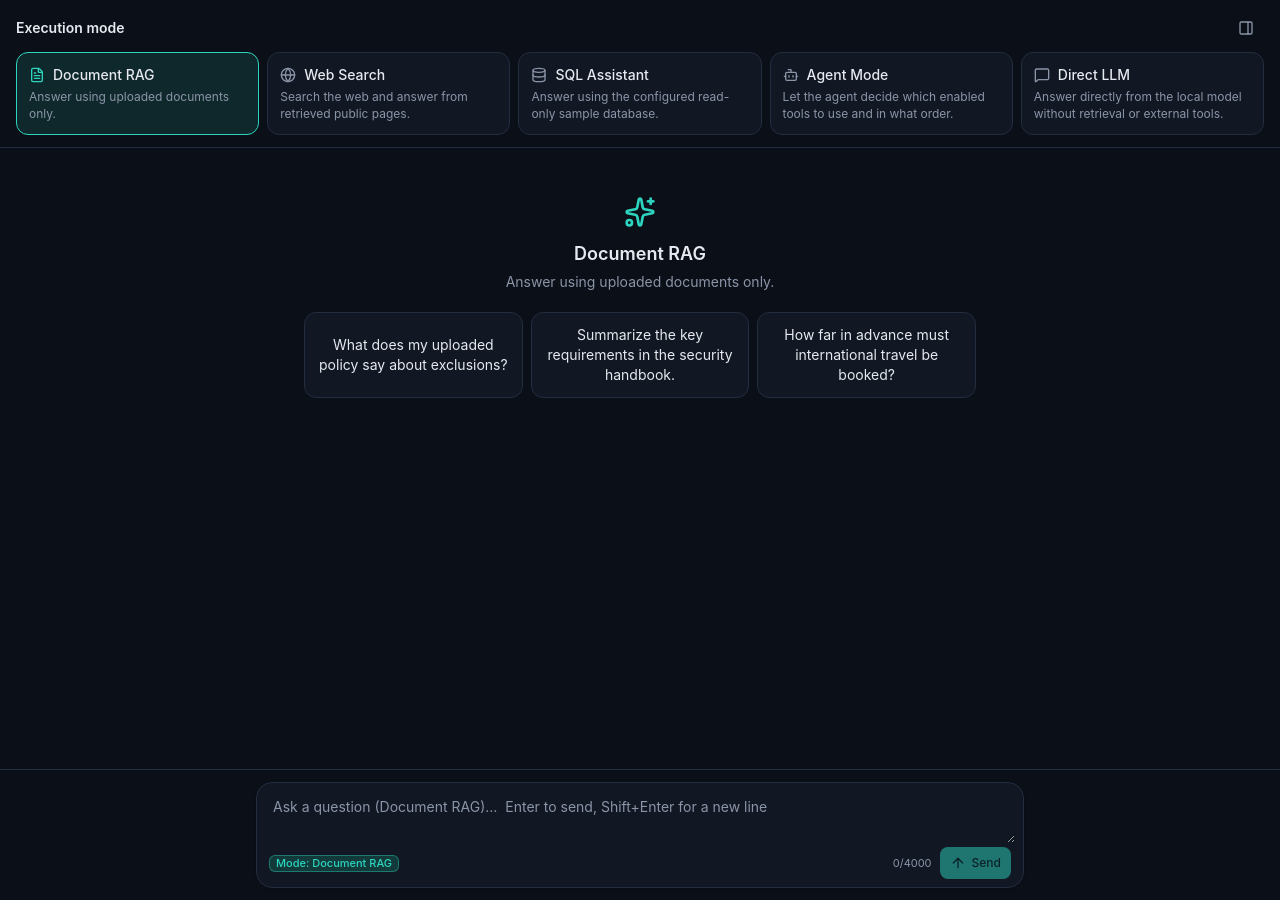
it: tool toggles appear only in Agent Mode and update availability
Click the radio button labelled "Agent Mode" at [891, 94], box x1=770 y1=52 x2=1013 y2=135
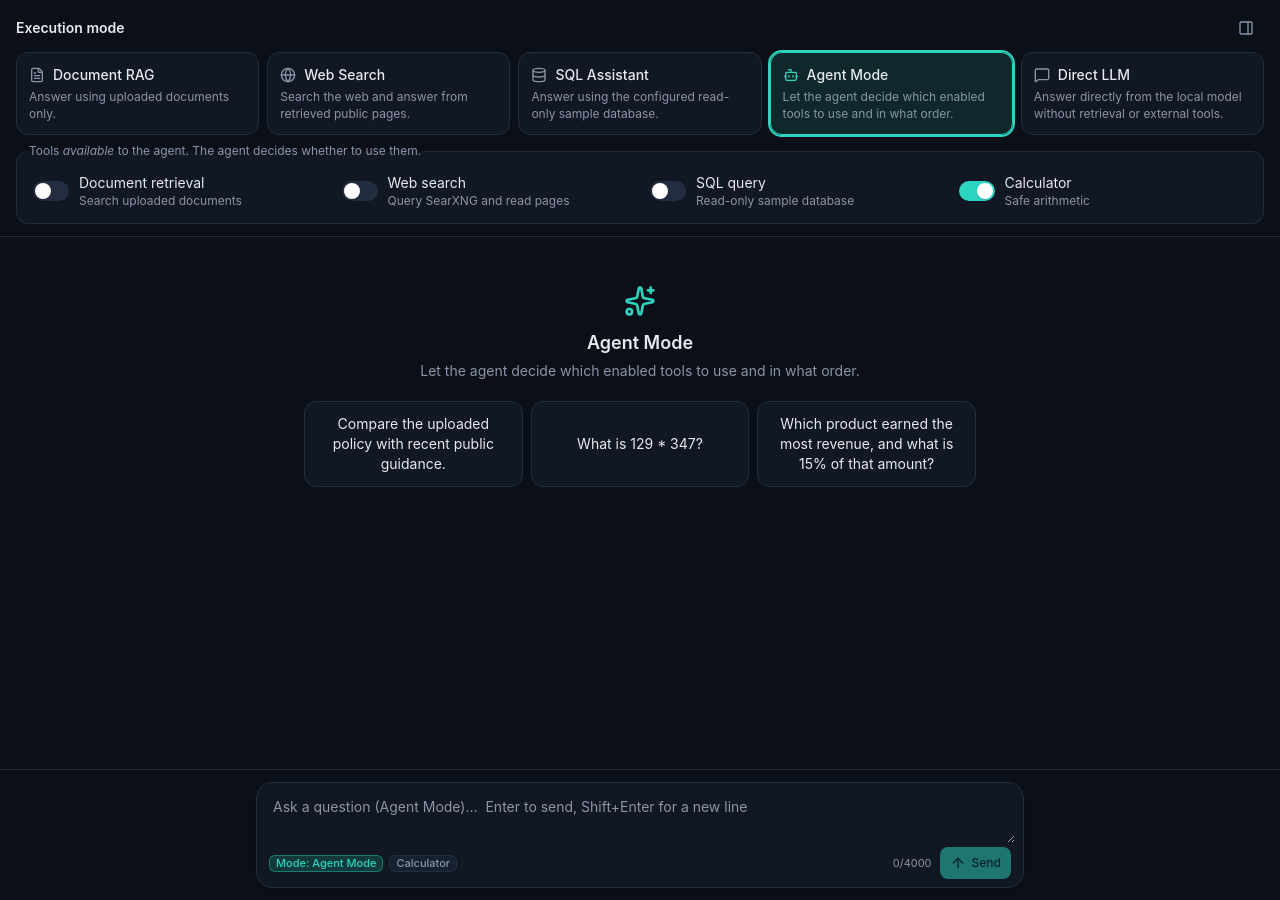
Click the switch named "Web search" next to "Query SearXNG and read pages" at [360, 191], box x1=342 y1=181 x2=378 y2=201
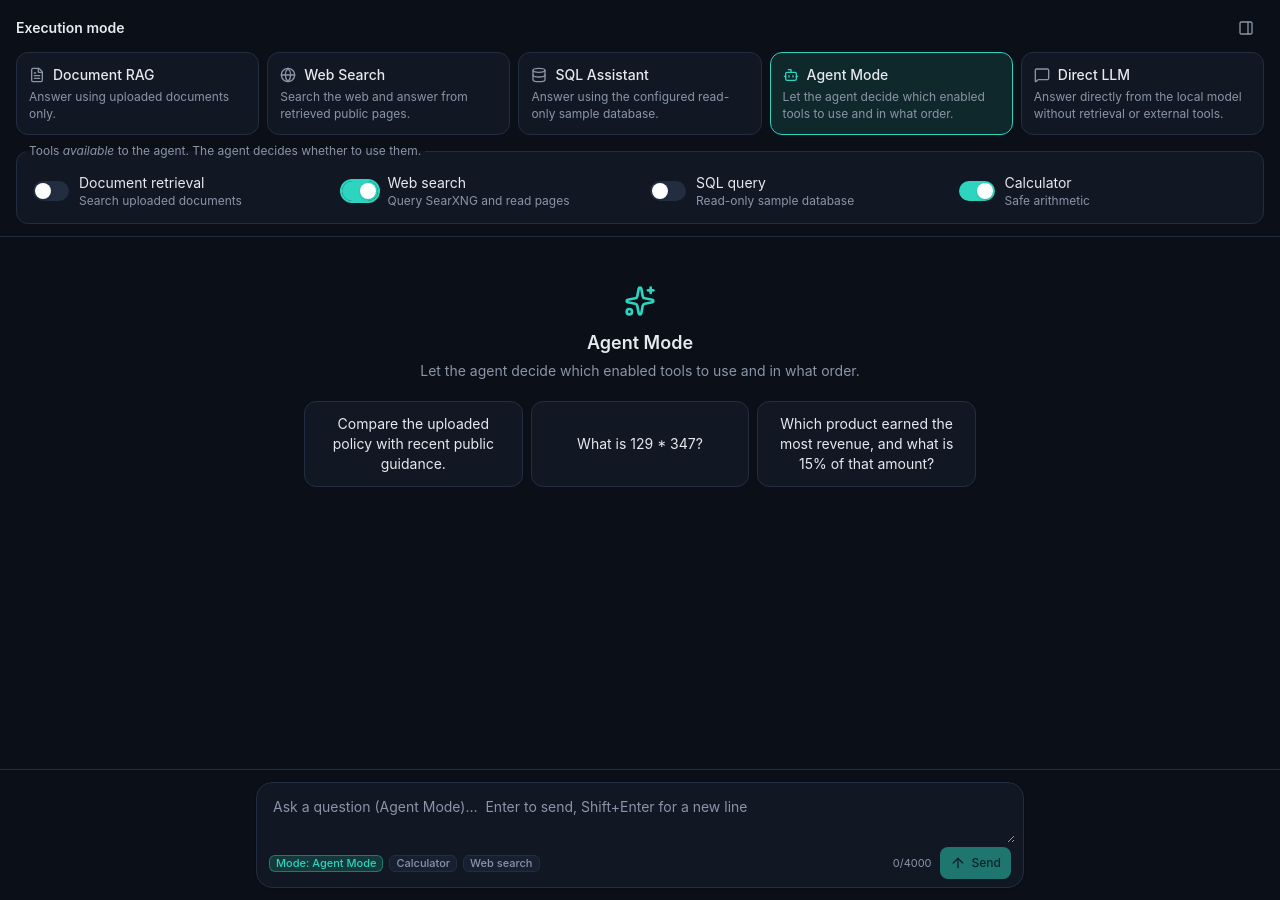
Expected: the element with test id "mode-indicator" shows "Mode: Agent Mode", x1=269 y1=854 x2=540 y2=872
Expected: the element with test id "mode-indicator" shows "Web search", x1=470 y1=856 x2=532 y2=870
